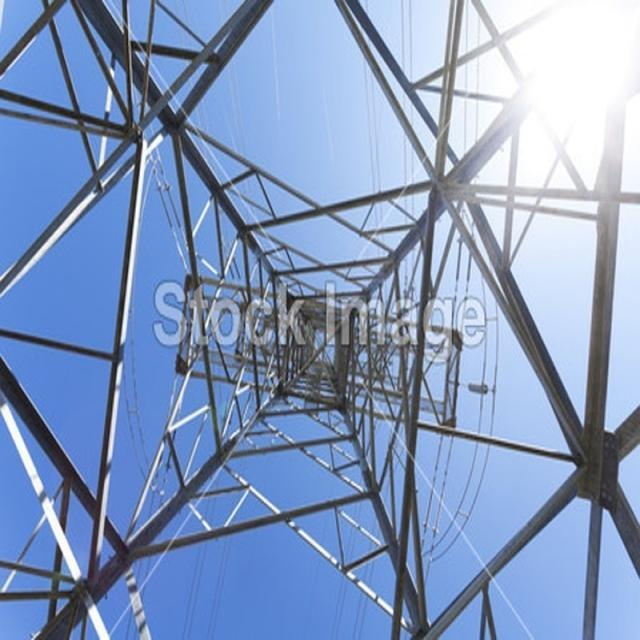non-critical vegetation: (5, 6, 628, 632)
